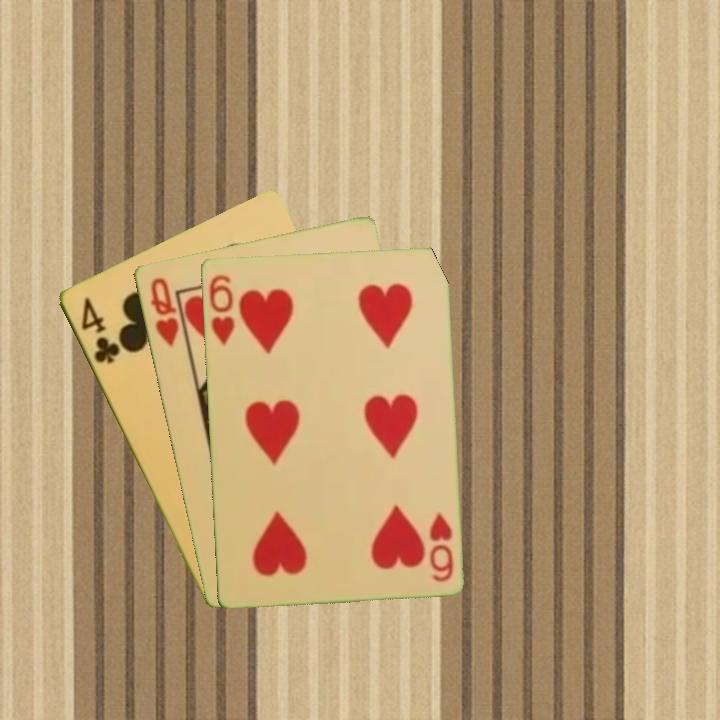4c: (76, 293, 122, 367)
6h: (205, 271, 237, 348), (425, 509, 456, 584)
Qh: (146, 273, 182, 349)
